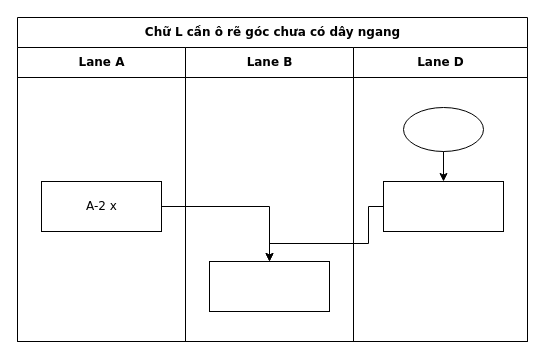
The diagram is 545 pixels wide and 359 high, and some of its shapes have lost their labels. The shapes that lost their labels are listed below. From the top down, each one's centre as x and y in pixels, then its label:
At (443,129): "D-1 x".
At (443,206): "D-3 x".
At (269,286): "B-4 x".
